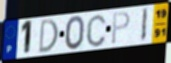1: (20, 19, 33, 57)
C: (85, 13, 107, 49)
D: (37, 17, 60, 55)
I: (139, 8, 149, 44)
O: (65, 15, 86, 52)
P: (110, 11, 131, 46)
